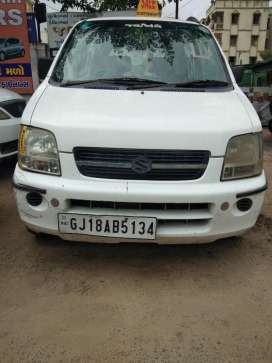license_plate: (56, 213, 158, 236)
